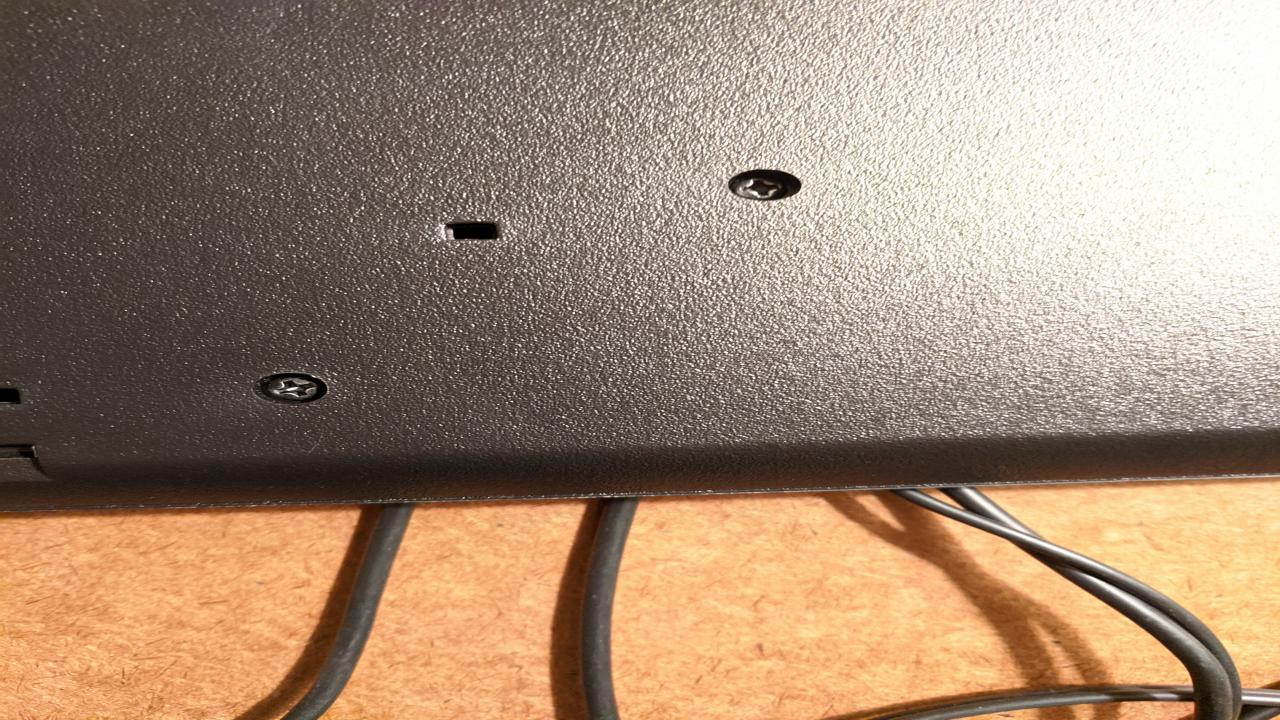CRS: (726, 170, 795, 203), (258, 373, 323, 404)
